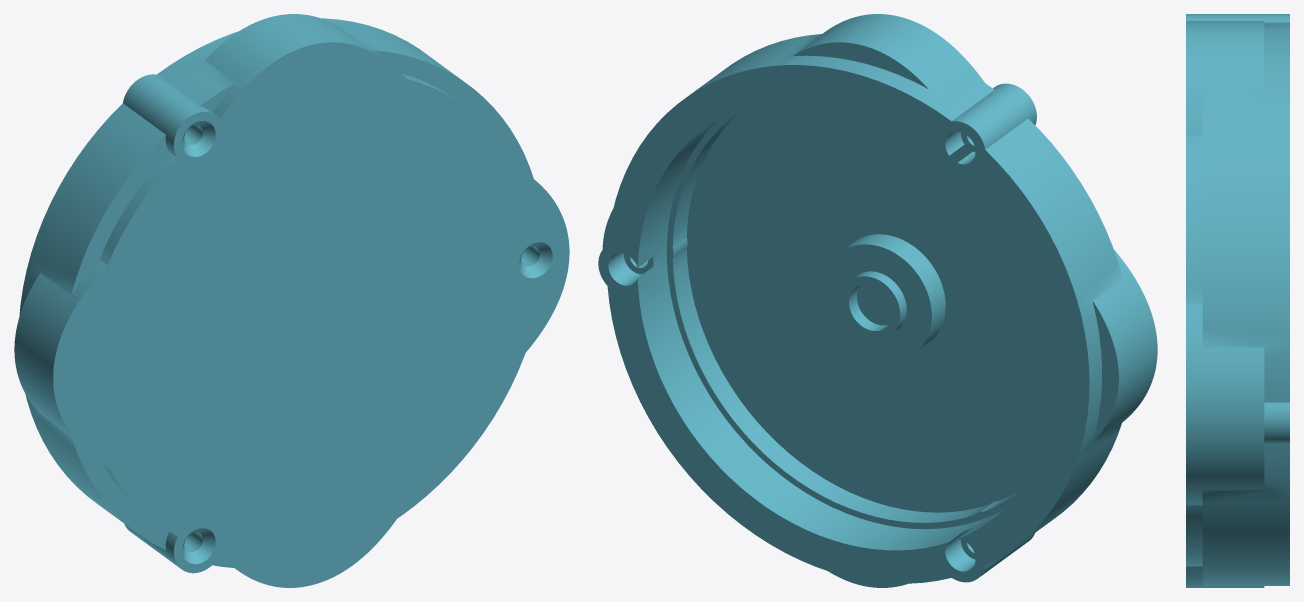
Rendered from Cap_four_leaf_clover.glb.
3 views of the same model, side by side, from view 1: azimuth 30°, elevation 25°; view 2: azimuth 150°, elevation 25°; view 3: azimuth 270°, elevation 25° (orthographic).
Parts seen in each view (by area): view 1: Cap_four_leaf_clover_0; view 2: Cap_four_leaf_clover_0; view 3: Cap_four_leaf_clover_0.
Part boxes in pixels (bbox=[...]): Cap_four_leaf_clover_0: bbox=[14, 14, 569, 587]; Cap_four_leaf_clover_0: bbox=[598, 14, 1157, 587]; Cap_four_leaf_clover_0: bbox=[1186, 14, 1289, 587].
Bounding box in the file's own units: 61.6 × 61.6 × 10.6.
